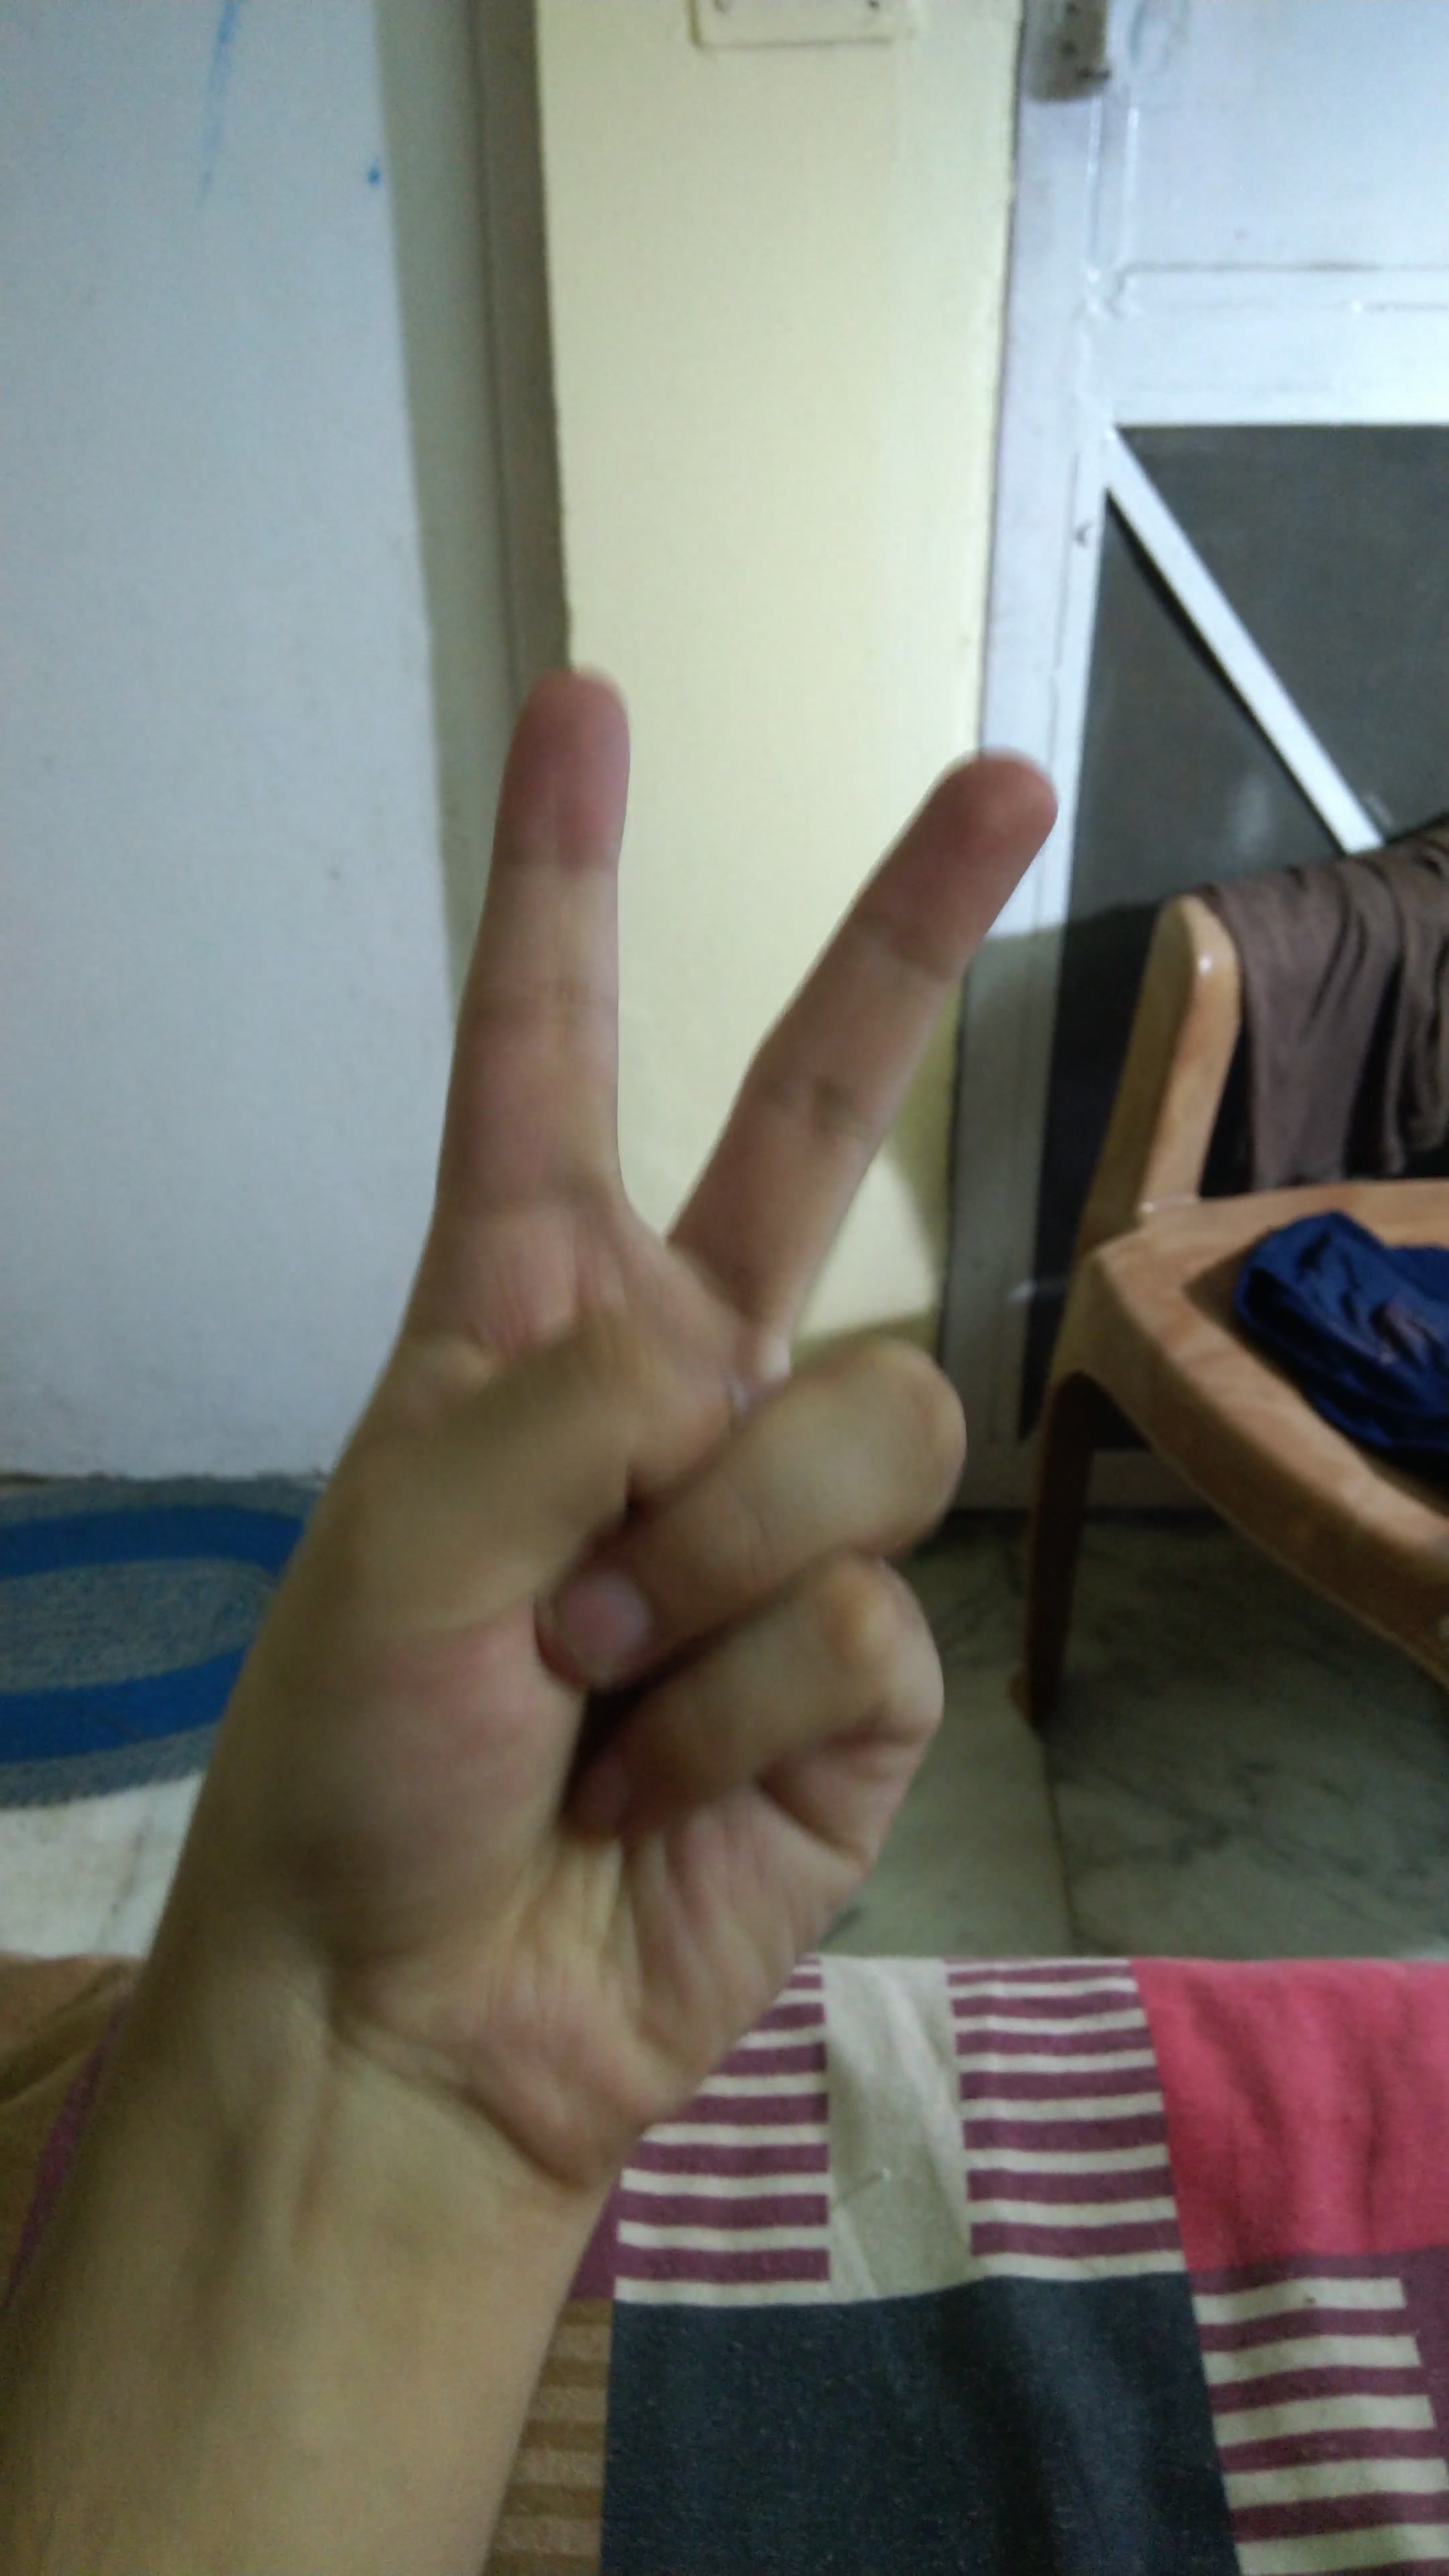hand: (156, 614, 1072, 2143)
